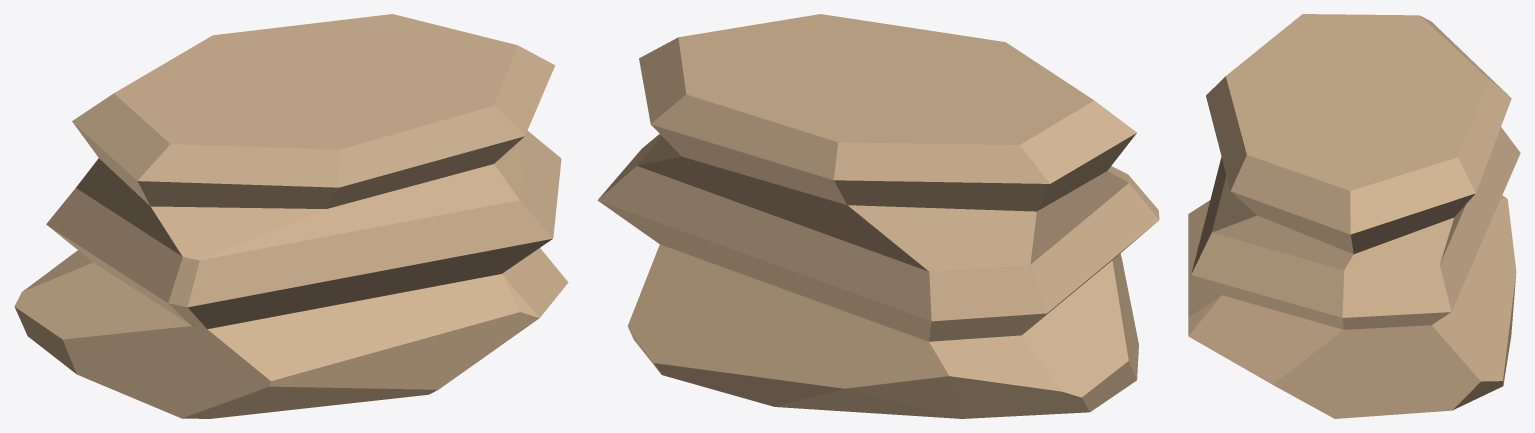
The model's file is Rock_Flat_l_06.fbx.
3 views of the same model, side by side, from view 1: azimuth 30°, elevation 25°; view 2: azimuth 150°, elevation 25°; view 3: azimuth 270°, elevation 25° (orthographic). The views are drawn at different scales.
Parts seen in each view (by area): view 1: Rock_Flat_l_06; view 2: Rock_Flat_l_06; view 3: Rock_Flat_l_06.
Part boxes in pixels (x1,y1,x2,y2): Rock_Flat_l_06: (14,14,568,418); Rock_Flat_l_06: (597,14,1159,418); Rock_Flat_l_06: (1188,14,1520,418).
Bounding box in the file's own units: 358 × 183 × 232.
